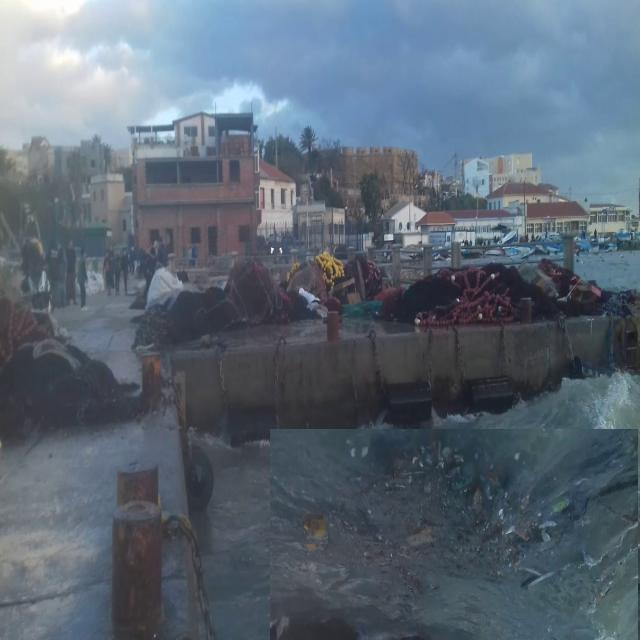Plastic: (302, 514, 328, 544)
Undefined trash: (270, 429, 638, 640)
Wood: (518, 475, 586, 506), (400, 518, 439, 545)
